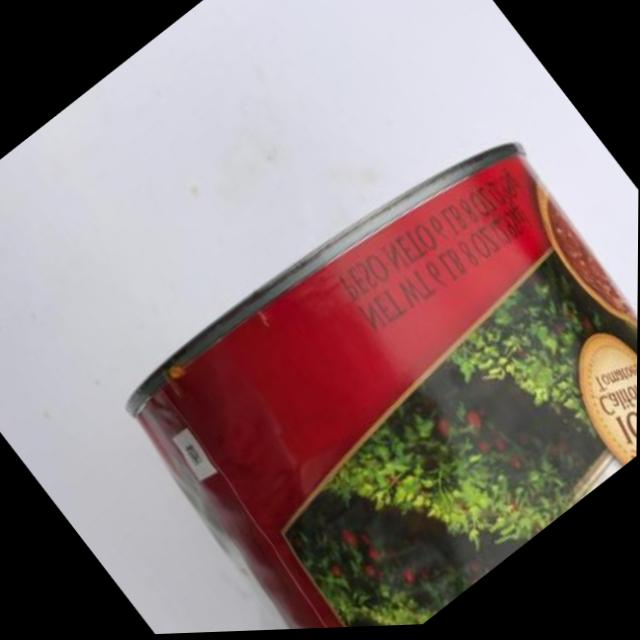metal: (96, 136, 635, 624)
